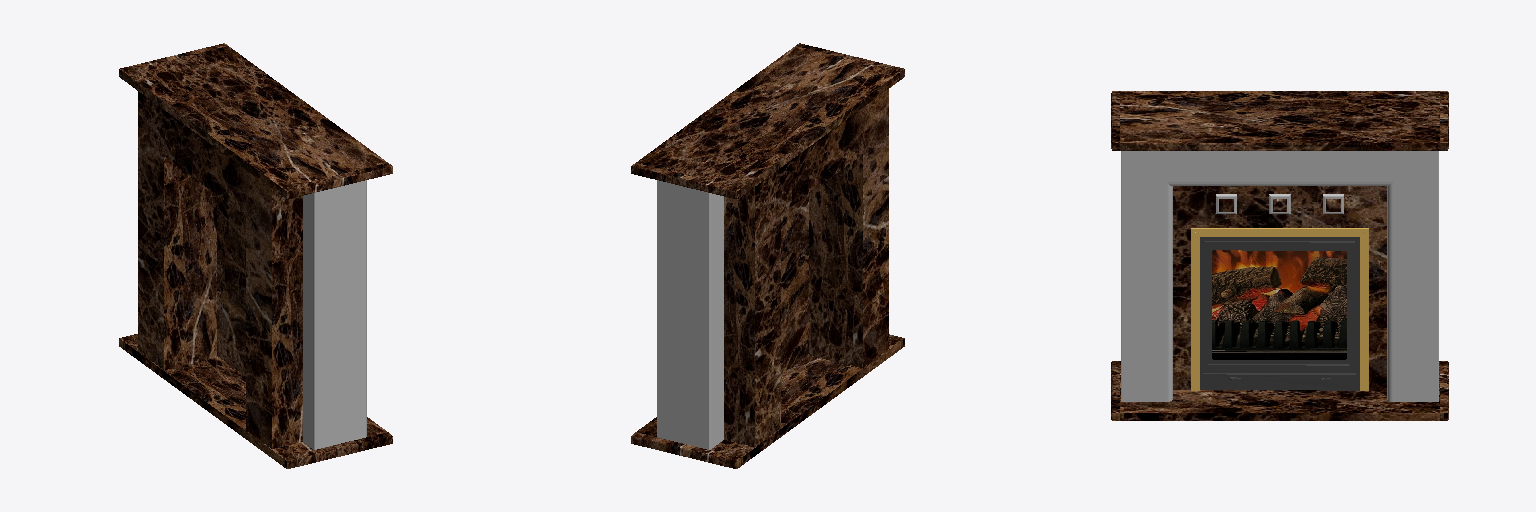
The picture shows the model from 3 angles: view 1: azimuth 30°, elevation 25°; view 2: azimuth 150°, elevation 25°; view 3: azimuth 270°, elevation 25°; orthographic projection.
Visible parts, largest first — view 1: fireplace2; view 2: fireplace2; view 3: fireplace2.
Part boxes in pixels (x1,y1,x2,y2): fireplace2: (119,43,392,468); fireplace2: (631,43,904,468); fireplace2: (1111,91,1448,420).
Size of the model in its own units: 4000 by 10000 by 11000.
6 materials, 2 textured.